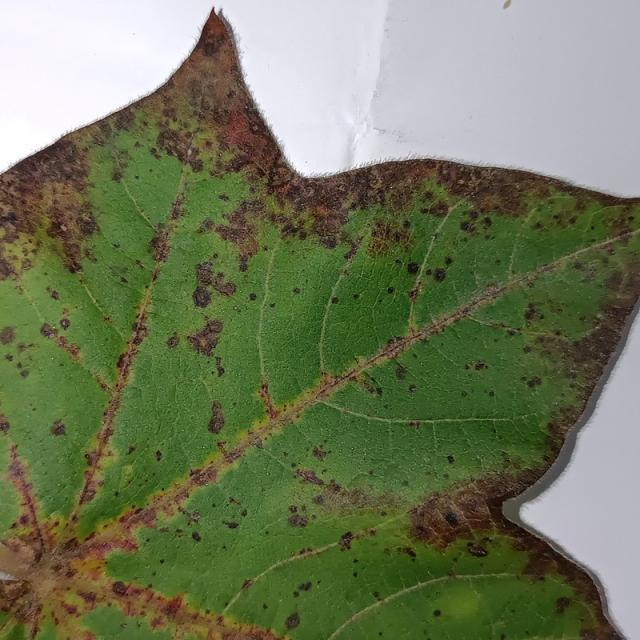Bacterial_Blight: (474, 486, 543, 552), (30, 313, 97, 377), (217, 413, 285, 470), (300, 478, 390, 521), (168, 316, 225, 364), (1, 228, 46, 288), (220, 108, 267, 159), (596, 255, 638, 312), (192, 258, 235, 302), (3, 535, 41, 568), (257, 380, 279, 425), (203, 404, 233, 435), (0, 577, 30, 606), (128, 503, 159, 531), (146, 233, 172, 265), (189, 462, 220, 488), (458, 210, 491, 234), (76, 213, 98, 238), (194, 261, 215, 285), (296, 467, 324, 485), (360, 376, 381, 397), (192, 286, 212, 308), (162, 597, 182, 619), (83, 447, 103, 468), (201, 36, 221, 57), (116, 349, 134, 372), (0, 325, 17, 346), (524, 304, 544, 321), (205, 318, 224, 335), (39, 322, 58, 339), (287, 513, 308, 528), (467, 543, 489, 557), (339, 531, 355, 550), (285, 611, 301, 630), (78, 590, 97, 606), (313, 203, 332, 219), (311, 444, 328, 460), (49, 420, 66, 436), (554, 596, 570, 613), (320, 234, 338, 249), (396, 546, 415, 560), (111, 581, 128, 596), (432, 267, 447, 282), (189, 158, 204, 173), (444, 511, 459, 526), (459, 220, 476, 233), (166, 333, 180, 348), (238, 255, 250, 272), (187, 510, 200, 525), (406, 262, 420, 275), (395, 366, 407, 380), (297, 581, 312, 592), (222, 520, 240, 529), (0, 417, 10, 433), (59, 317, 71, 330), (241, 579, 253, 591), (474, 361, 488, 371), (313, 494, 325, 505), (408, 420, 421, 429), (191, 531, 201, 542), (155, 449, 163, 461), (218, 194, 230, 202), (527, 378, 536, 388), (533, 376, 542, 386), (408, 383, 417, 393), (19, 369, 29, 378), (503, 0, 512, 10), (248, 292, 257, 301), (523, 345, 532, 354), (444, 257, 453, 266), (250, 123, 259, 132), (606, 247, 615, 255), (433, 609, 441, 617), (387, 286, 395, 294), (120, 276, 128, 284), (331, 296, 339, 304), (447, 455, 455, 463), (293, 287, 301, 294), (401, 479, 409, 486), (488, 390, 495, 397), (113, 242, 120, 249), (373, 591, 380, 598), (60, 225, 67, 232), (423, 628, 429, 636), (461, 390, 467, 397), (352, 571, 358, 578), (458, 179, 465, 185), (269, 302, 275, 308), (353, 557, 359, 563)
Cotton: (0, 14, 639, 639)
